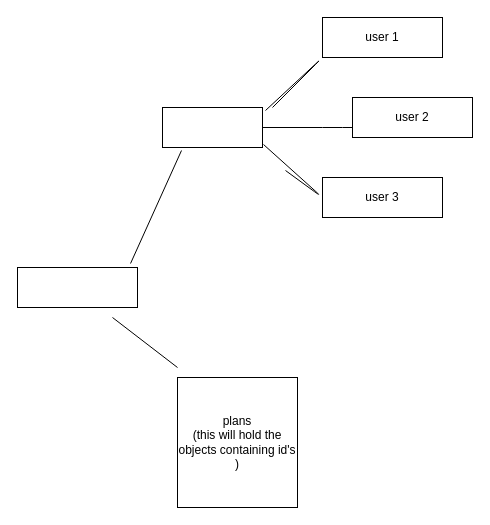
This 490x525 diagram has some shape labels left out. The box of each missing label's shape, as (x1, y1, x2, y2) in pixels:
root: (16, 266, 138, 308)
users: (162, 106, 262, 148)
